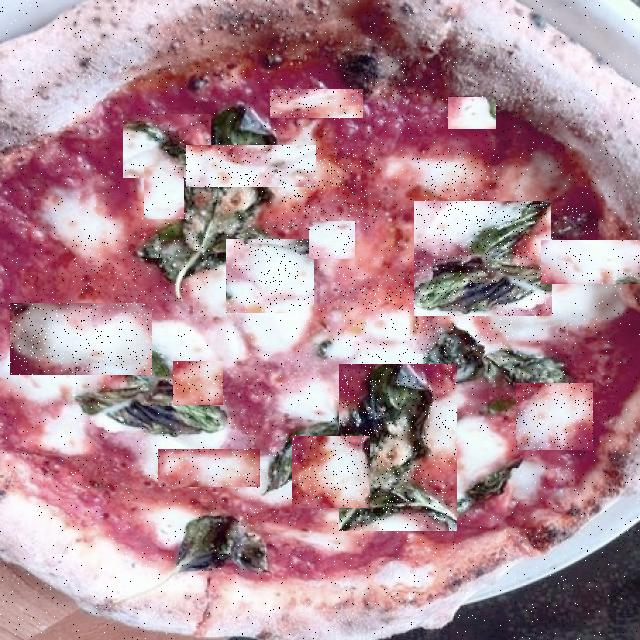Basil: (339, 364, 457, 531), (414, 201, 552, 316), (71, 234, 212, 302), (282, 146, 375, 230), (370, 60, 465, 126), (123, 114, 211, 178)
Cheese: (338, 275, 514, 363), (11, 303, 152, 375), (226, 239, 314, 313), (292, 436, 370, 508), (186, 145, 316, 187), (516, 383, 593, 450), (541, 240, 640, 284), (424, 148, 499, 201), (158, 449, 260, 487), (548, 182, 602, 239), (457, 432, 502, 499), (270, 89, 363, 118), (173, 361, 223, 405), (144, 167, 184, 219), (309, 221, 355, 259), (448, 97, 496, 129), (100, 136, 127, 176), (150, 301, 180, 330)
Pizza: (0, 0, 640, 640)
